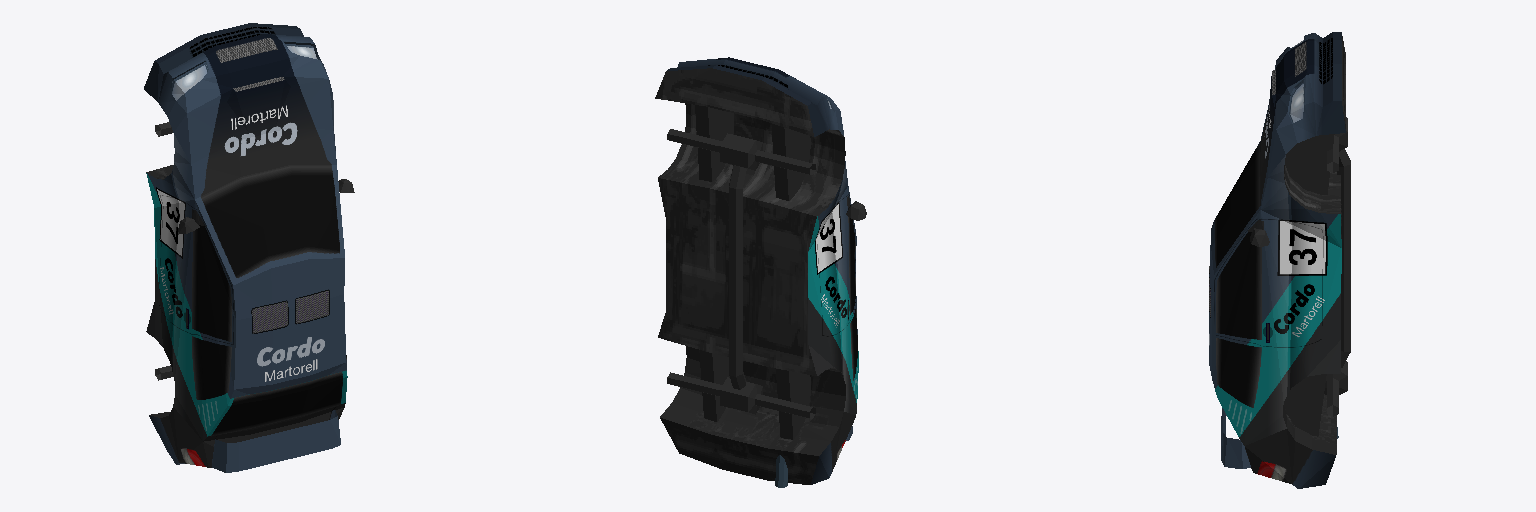
3 views of the same model, side by side, from view 1: azimuth 30°, elevation 25°; view 2: azimuth 150°, elevation 25°; view 3: azimuth 270°, elevation 25° (orthographic).
Parts seen in each view (by area): view 1: seat_seat.0; view 2: seat_seat.0; view 3: seat_seat.0.
Part boxes in pixels (bbox=[...]): seat_seat.0: bbox=[144, 23, 354, 472]; seat_seat.0: bbox=[655, 57, 866, 487]; seat_seat.0: bbox=[1209, 32, 1350, 488].
Size of the model in its own units: 161 by 360 by 113.
Materials: 1 (1 with a texture image).